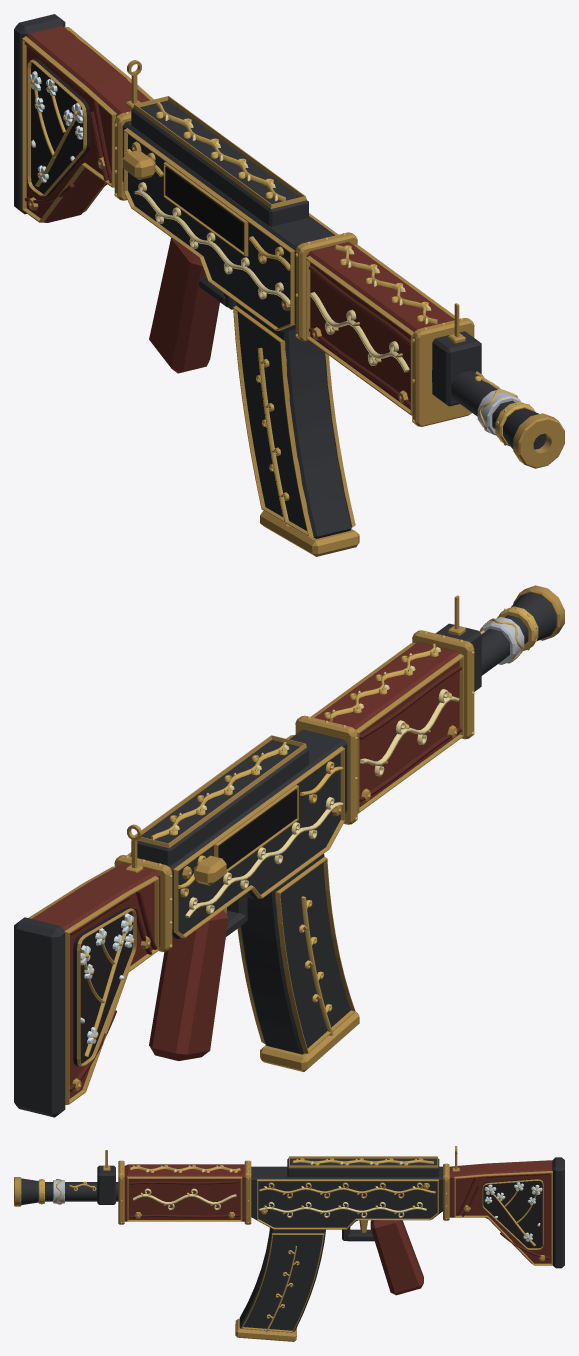
3 views of the same model, one above another, from view 1: azimuth 30°, elevation 25°; view 2: azimuth 150°, elevation 25°; view 3: azimuth 270°, elevation 25° (orthographic). The views are drawn at different scales.
Visible parts, largest first — view 1: body_wzA__iron__p2e3034, mag_wzB__iron__p2e3034, guard_wzA__cherry__p6b2f26, stock_wzA__cherry__p6b2f26, guard_wzN__brass__pb08a45, grip_wzA__cherry__p6b2f26, body_wzN__brass__pb08a45, mag_wzN__brass__pb08a45, stock_wzN__brass__pb08a45, barrel_wzB__iron__p2e3034, stock_wzB__lac__p252123, body_wzN__bore__p141416 (+15 smaller); view 2: body_wzA__iron__p2e3034, mag_wzB__iron__p2e3034, stock_wzB__iron__p2e3034, guard_wzA__cherry__p6b2f26, grip_wzA__cherry__p6b2f26, guard_wzN__brass__pb08a45, stock_wzN__brass__pb08a45, body_wzN__brass__pb08a45, stock_wzA__cherry__p6b2f26, mag_wzN__brass__pb08a45, stock_wzB__lac__p252123, barrel_wzB__iron__p2e3034 (+15 smaller); view 3: body_wzA__iron__p2e3034, mag_wzB__iron__p2e3034, guard_wzA__cherry__p6b2f26, stock_wzA__cherry__p6b2f26, stock_wzB__lac__p252123, grip_wzA__cherry__p6b2f26, body_wzN__brass__pb08a45, barrel_wzB__iron__p2e3034, guard_wzN__brass__pb08a45, stock_wzN__brass__pb08a45, body_wzN__gold__pc9a452, stock_wzB__iron__p2e3034 (+11 smaller).
Boxes of the visible parts, left/top/right/bottom form: body_wzA__iron__p2e3034: left=122, top=100, right=334, bottom=332; mag_wzB__iron__p2e3034: left=236, top=302, right=352, bottom=538; guard_wzA__cherry__p6b2f26: left=306, top=242, right=454, bottom=409; stock_wzA__cherry__p6b2f26: left=26, top=26, right=149, bottom=222; guard_wzN__brass__pb08a45: left=295, top=232, right=474, bottom=426; grip_wzA__cherry__p6b2f26: left=149, top=238, right=219, bottom=373; body_wzN__brass__pb08a45: left=123, top=96, right=338, bottom=330; mag_wzN__brass__pb08a45: left=233, top=305, right=359, bottom=556; stock_wzN__brass__pb08a45: left=22, top=26, right=153, bottom=222; barrel_wzB__iron__p2e3034: left=432, top=331, right=546, bottom=449; stock_wzB__lac__p252123: left=31, top=58, right=90, bottom=196; body_wzN__bore__p141416: left=165, top=166, right=243, bottom=252; body_wzA__iron__p2e3034: left=130, top=729, right=347, bottom=938; mag_wzB__iron__p2e3034: left=240, top=854, right=350, bottom=1054; stock_wzB__iron__p2e3034: left=14, top=917, right=65, bottom=1117; guard_wzA__cherry__p6b2f26: left=314, top=642, right=460, bottom=807; grip_wzA__cherry__p6b2f26: left=149, top=910, right=228, bottom=1060; guard_wzN__brass__pb08a45: left=295, top=630, right=474, bottom=824; stock_wzN__brass__pb08a45: left=28, top=855, right=172, bottom=1104; body_wzN__brass__pb08a45: left=127, top=735, right=344, bottom=937; stock_wzA__cherry__p6b2f26: left=31, top=862, right=160, bottom=1098; mag_wzN__brass__pb08a45: left=237, top=856, right=359, bottom=1071; stock_wzB__lac__p252123: left=73, top=907, right=132, bottom=1066; barrel_wzB__iron__p2e3034: left=435, top=592, right=556, bottom=691; body_wzA__iron__p2e3034: left=251, top=1158, right=442, bottom=1228; mag_wzB__iron__p2e3034: left=239, top=1228, right=325, bottom=1332; guard_wzA__cherry__p6b2f26: left=124, top=1164, right=244, bottom=1221; stock_wzA__cherry__p6b2f26: left=449, top=1160, right=552, bottom=1263; stock_wzB__lac__p252123: left=482, top=1178, right=543, bottom=1248; grip_wzA__cherry__p6b2f26: left=370, top=1220, right=423, bottom=1295; body_wzN__brass__pb08a45: left=257, top=1156, right=438, bottom=1229; barrel_wzB__iron__p2e3034: left=21, top=1165, right=118, bottom=1204; guard_wzN__brass__pb08a45: left=118, top=1160, right=251, bottom=1224; stock_wzN__brass__pb08a45: left=443, top=1160, right=552, bottom=1265; body_wzN__gold__pc9a452: left=259, top=1158, right=435, bottom=1214; stock_wzB__iron__p2e3034: left=552, top=1157, right=564, bottom=1268.
Size of the model in its own units: 0.1039 by 0.4529 by 1.19.
